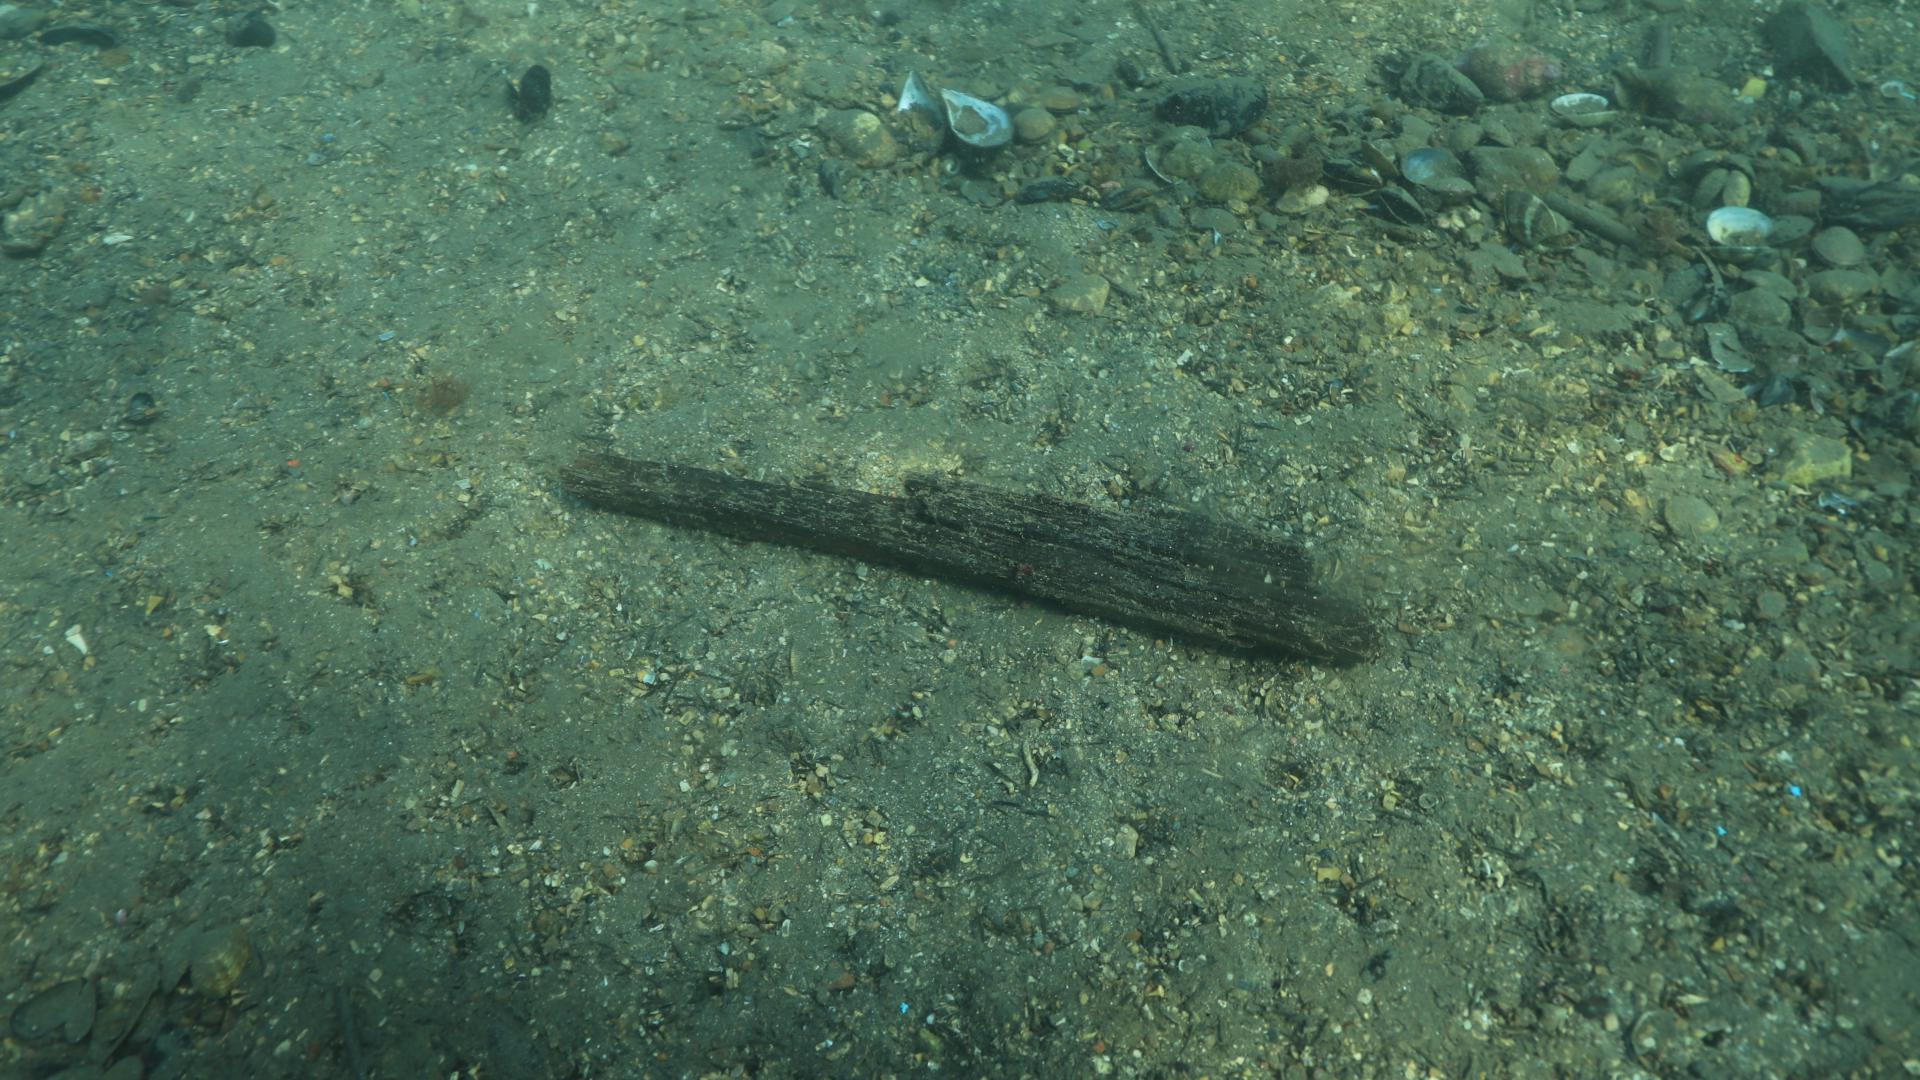wood: (554, 442, 1382, 669)
